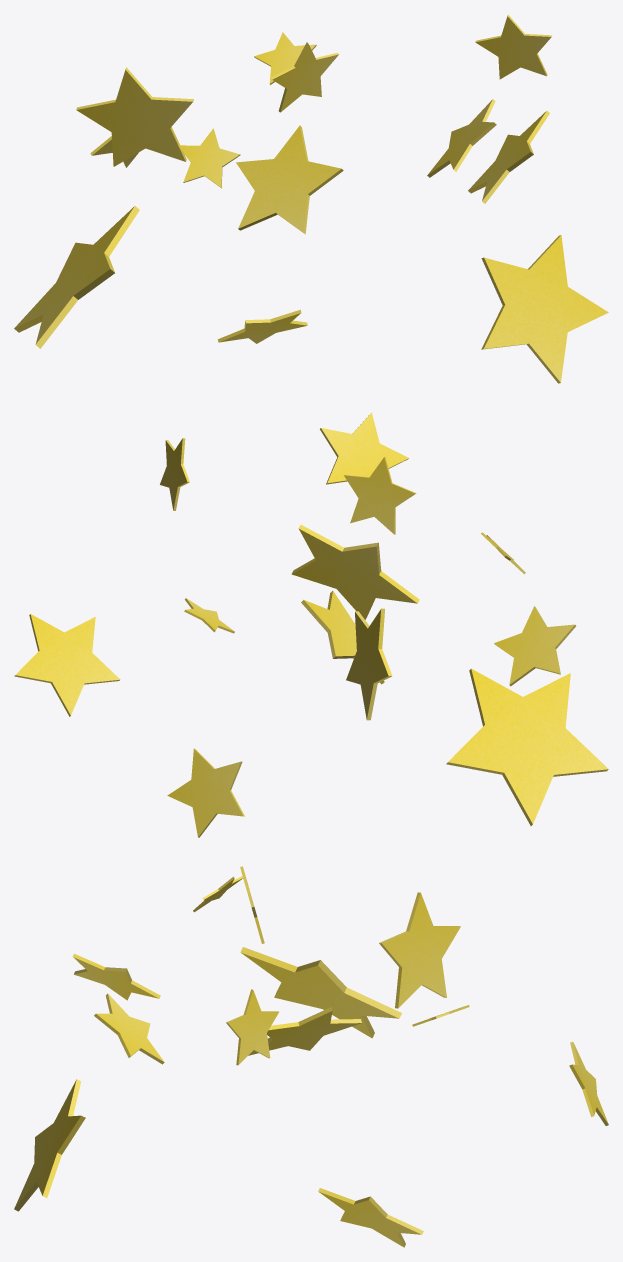
The model's file is stars.obj.
The picture shows the model from 3 angles, top to bottom: view 1: azimuth 30°, elevation 25°; view 2: azimuth 150°, elevation 25°; view 3: azimuth 270°, elevation 25°; orthographic projection. The views are drawn at different scales.
Parts seen in each view (by area): view 1: Mesh1, Mesh, Mesh11, Mesh5, Mesh9, Mesh3, Mesh6, Mesh8, Mesh7, Mesh2, Mesh10; view 2: Mesh5, Mesh1, Mesh3, Mesh4, Mesh7, Mesh2, Mesh11, Mesh6, Mesh, Mesh9, Mesh10; view 3: Mesh5, Mesh11, Mesh1, Mesh, Mesh3, Mesh9, Mesh2, Mesh7, Mesh4.
Part boxes in pixels (x1,y1,x2,y2): Mesh1: (481,235,608,383); Mesh: (236,125,343,234); Mesh11: (76,67,193,166); Mesh5: (14,206,139,348); Mesh9: (475,14,552,79); Mesh3: (468,111,549,203); Mesh6: (271,42,338,112); Mesh8: (178,128,240,188); Mesh7: (427,99,496,177); Mesh2: (217,309,307,343); Mesh10: (254,32,316,84); Mesh5: (446,668,608,825); Mesh1: (291,524,419,619); Mesh3: (14,614,120,716); Mesh4: (167,748,244,837); Mesh7: (320,412,408,484); Mesh2: (494,606,575,686); Mesh11: (346,608,392,720); Mesh6: (344,457,416,534); Mesh: (301,591,384,684); Mesh9: (160,438,189,510); Mesh10: (184,598,234,633); Mesh5: (240,947,401,1038); Mesh11: (379,892,460,1008); Mesh1: (14,1079,85,1211); Mesh: (248,1007,361,1055); Mesh3: (318,1188,423,1247); Mesh9: (226,989,278,1065); Mesh2: (94,993,164,1064); Mesh7: (72,953,160,1000); Mesh4: (569,1041,608,1125).
Bounding box in the file's own units: 6.09 × 3.01 × 5.76.
Materials: 1 (1 with a texture image).
